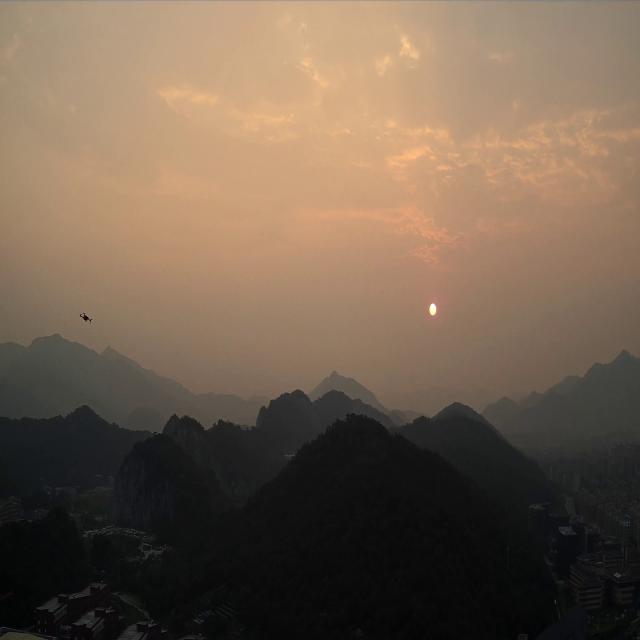UAV: (78, 311, 92, 324)
